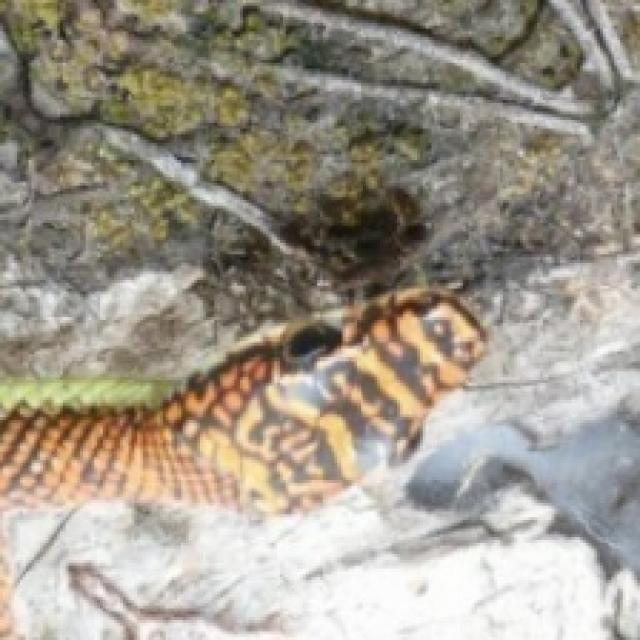paradise tree snake: (0, 289, 483, 511)
